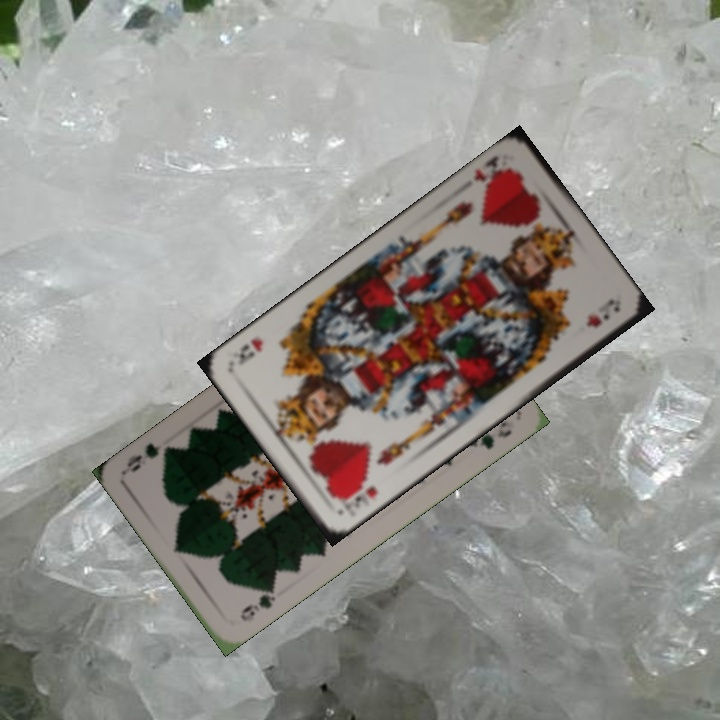G9: (236, 580, 278, 624)
HK: (470, 151, 515, 195), (339, 481, 380, 512)
